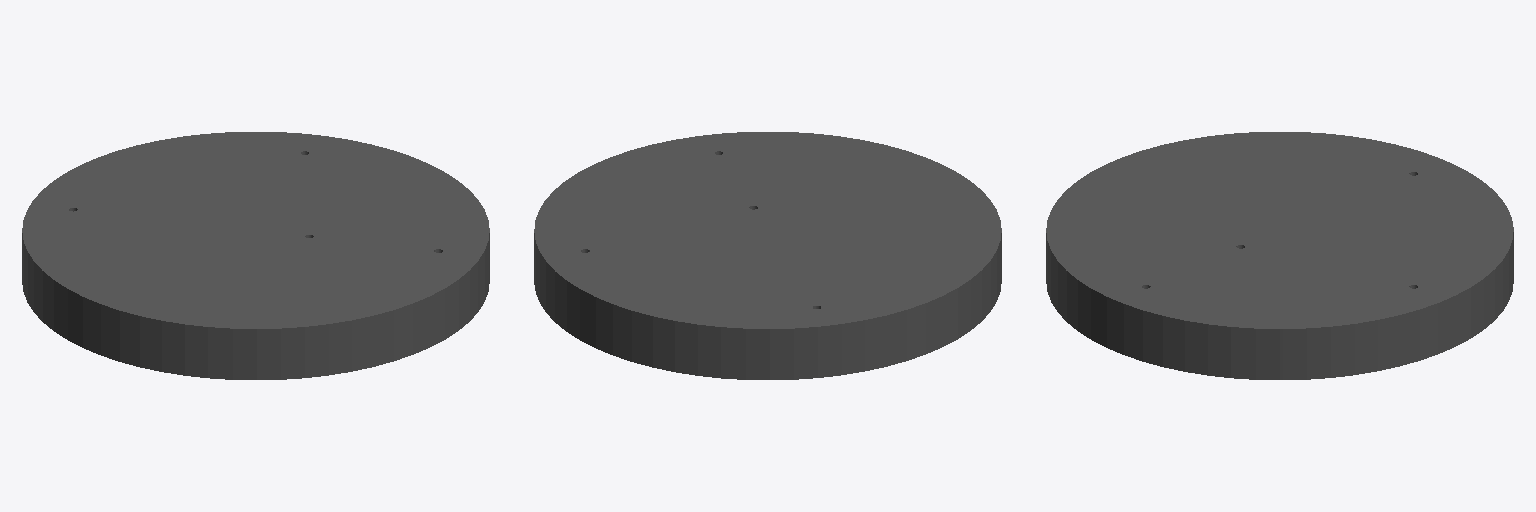
Rendered from ellip1.obj.
3 views of the same model, side by side, from view 1: azimuth 30°, elevation 25°; view 2: azimuth 150°, elevation 25°; view 3: azimuth 270°, elevation 25° (orthographic).
Visible parts, largest first — view 1: StainlessSteel_ellip1; view 2: StainlessSteel_ellip1; view 3: StainlessSteel_ellip1.
Part boxes in pixels (bbox=[...]): StainlessSteel_ellip1: bbox=[22, 132, 489, 379]; StainlessSteel_ellip1: bbox=[534, 132, 1001, 379]; StainlessSteel_ellip1: bbox=[1046, 132, 1513, 379].
Size of the model in its own units: 0.1049 by 0.0127 by 0.1049.